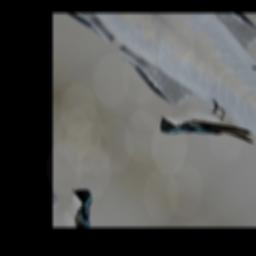Swallow: (150, 83, 256, 180)
